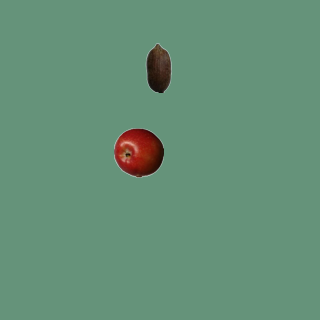Apple Braeburn: (113, 127, 163, 177)
Nut Pecan: (133, 42, 183, 92)
